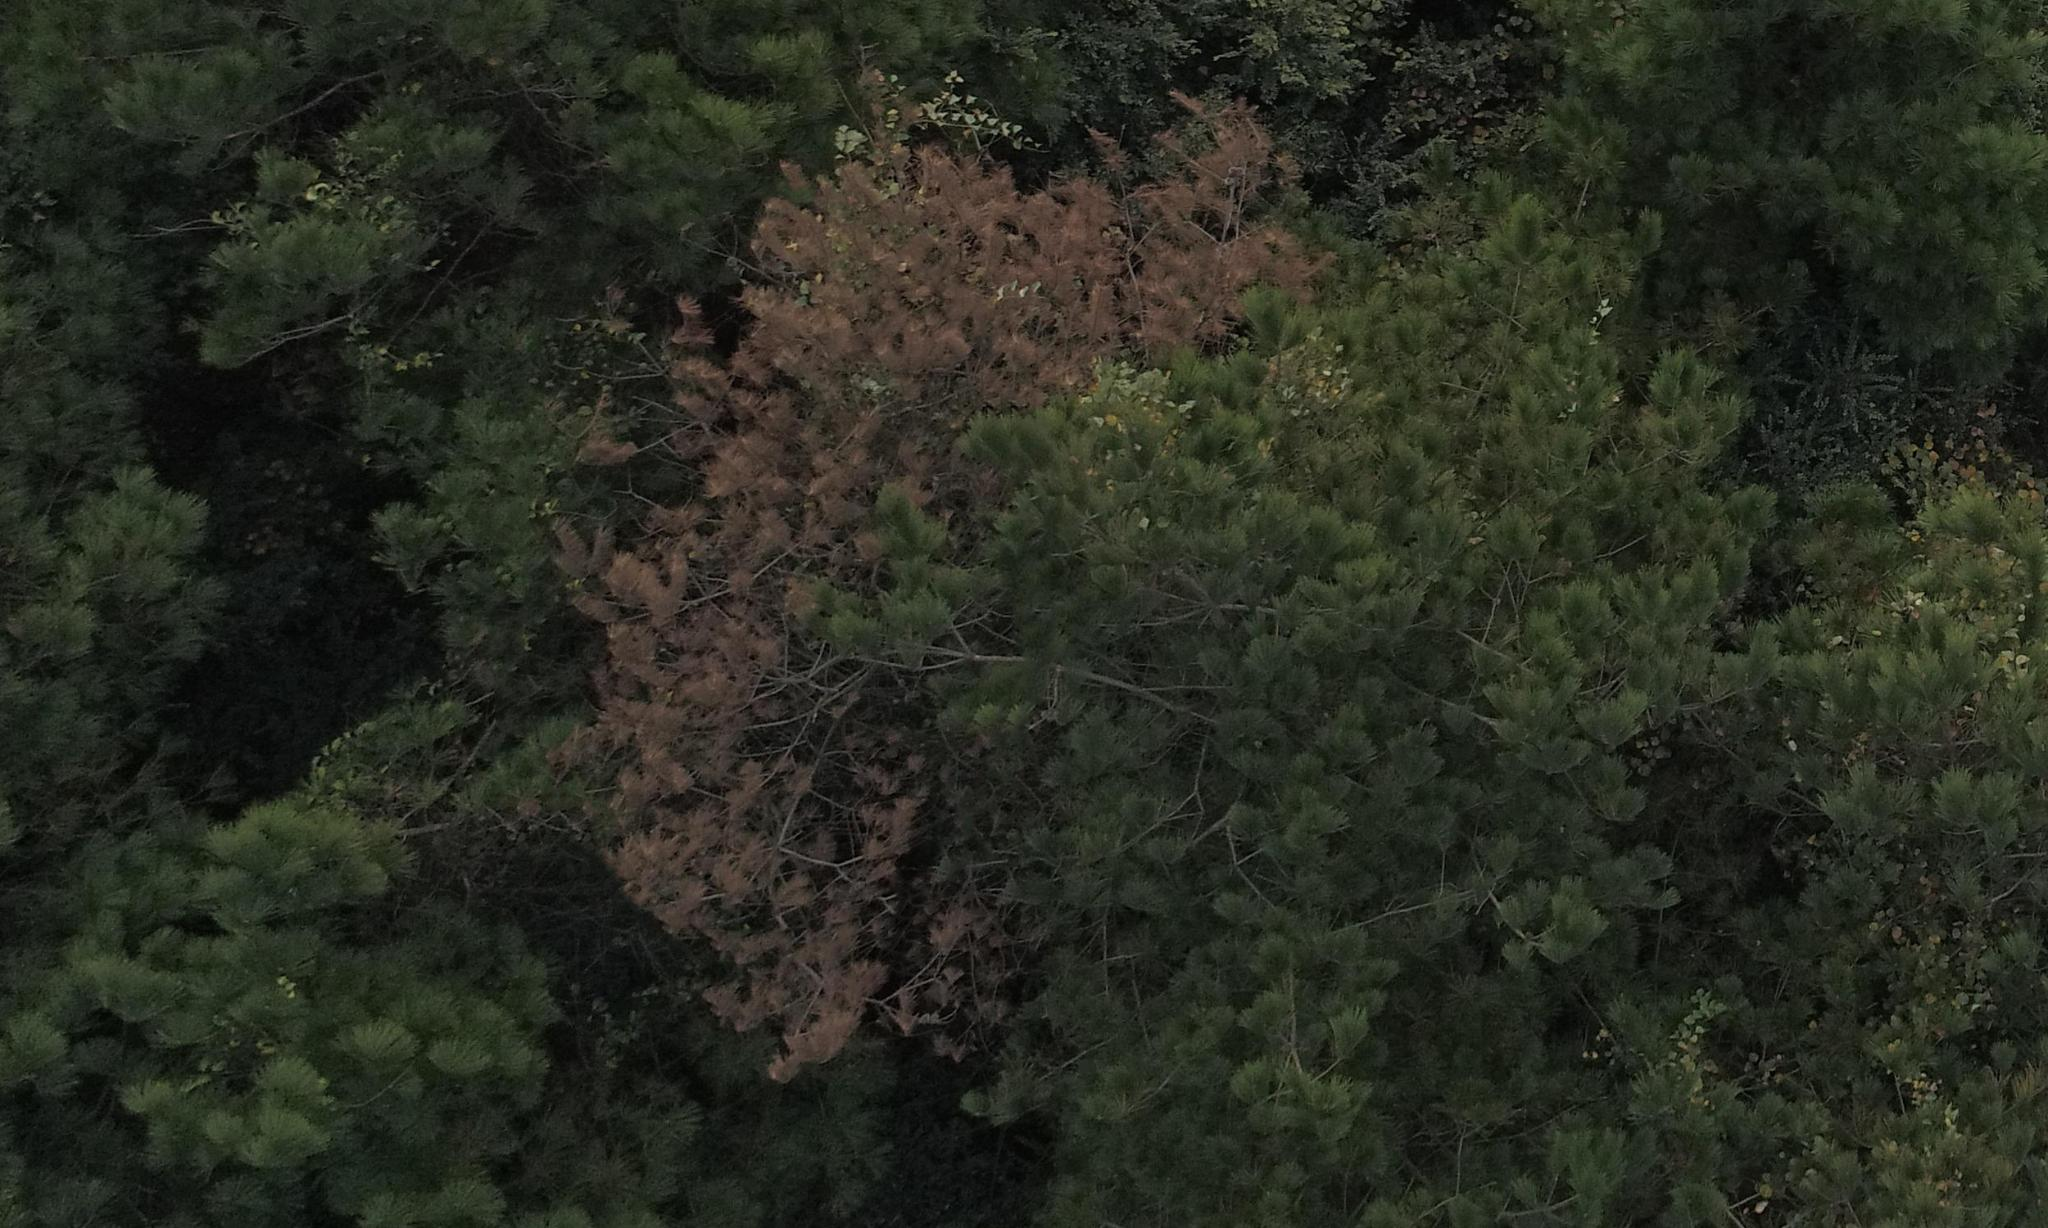heavy: (554, 424, 975, 1057), (580, 99, 1272, 396)
